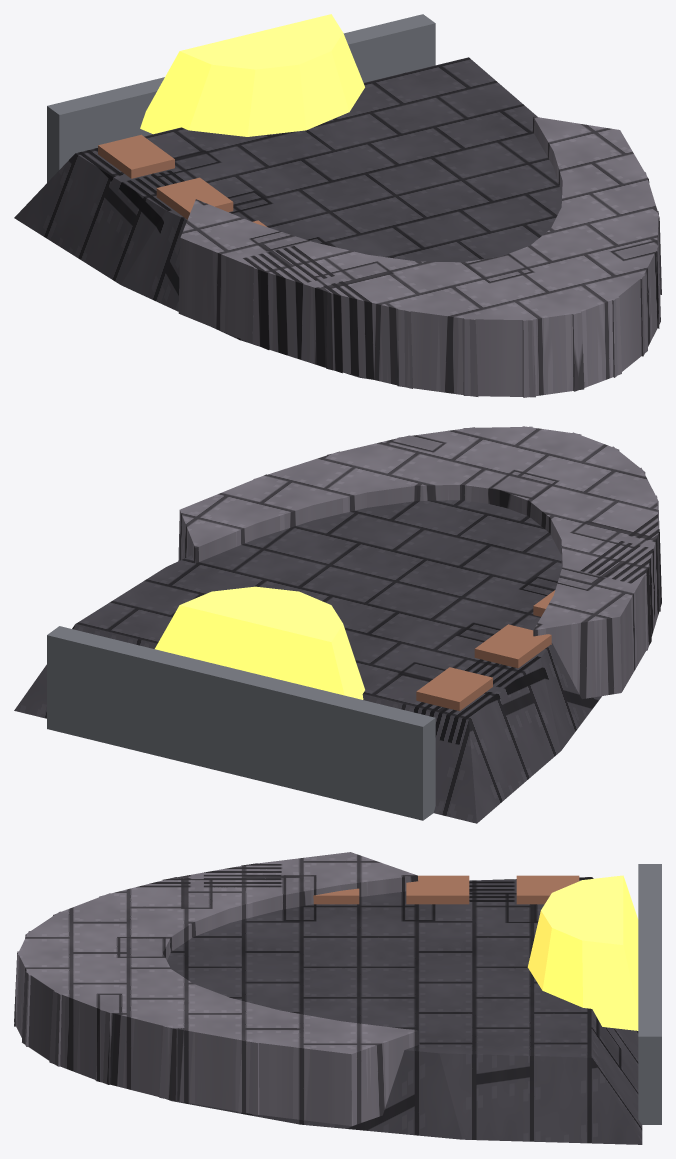
File: twin_ember.glb
3 views of the same model, one above another, from view 1: azimuth 30°, elevation 25°; view 2: azimuth 150°, elevation 25°; view 3: azimuth 270°, elevation 25° (orthographic). The views are drawn at different scales.
Bounding box in the file's own units: 32 × 9 × 41.2.
Materials: 5 (2 with a texture image).
